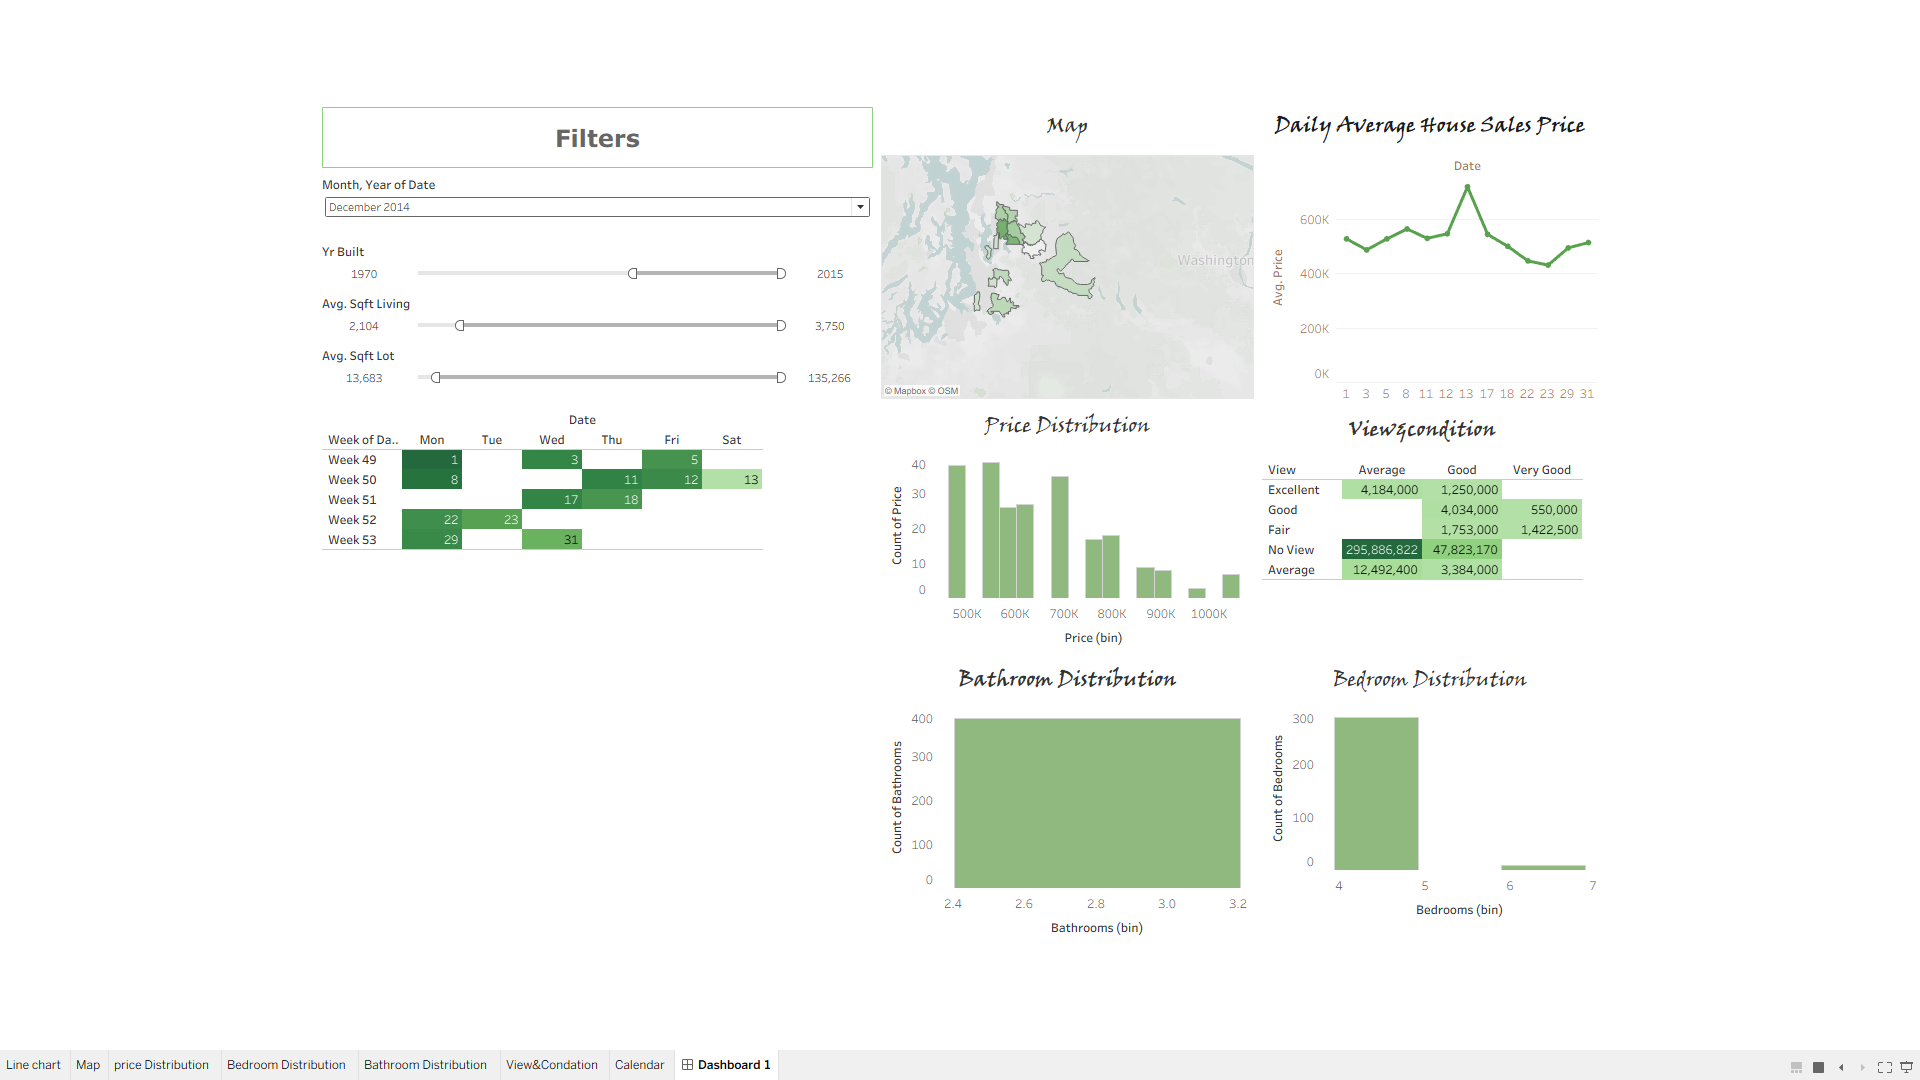

The page's visual inventory and layout, read from the dashboard file:
{"tool":"tableau","page":{"name":"Dashboard 1","canvas":[1000,1000],"units":"permille","ordinal":0},"visuals":[{"type":"text","box":[6.2,9.3,430,80.2]},{"type":"worksheet","title":"Map","mark":"Automatic","box":[436.2,9.3,293.5,348.8]},{"type":"worksheet","title":"Line chart","mark":"Line","rows":["price"],"cols":["date"],"box":[729.6,9.3,264.2,353.1]},{"type":"filter","title":"Calendar","param":"[federated.07s91ni09cb6ia1ak8ub21azffmt].[my:date:ok]","box":[6.2,89.5,430,77.9]},{"type":"filter","title":"Calendar","param":"[federated.07s91ni09cb6ia1ak8ub21azffmt].[none:yr_built:qk]","box":[6.2,167.4,430,60.5]},{"type":"filter","title":"Calendar","param":"[federated.07s91ni09cb6ia1ak8ub21azffmt].[avg:sqft_living:qk]","box":[6.2,227.9,430,60.5]},{"type":"filter","title":"Calendar","param":"[federated.07s91ni09cb6ia1ak8ub21azffmt].[avg:sqft_lot:qk]","box":[6.2,288.4,430,72.1]},{"type":"worksheet","title":"price Distribution","mark":"Automatic","rows":["price"],"cols":["Price (bin)"],"box":[436.2,358.1,293.5,295.4]},{"type":"worksheet","title":"Calendar","mark":"Square","rows":["date"],"cols":["date"],"box":[6.2,360.5,430,630.2]},{"type":"worksheet","title":"View&Condation","mark":"Square","rows":["view"],"cols":["condition"],"box":[729.6,362.4,264.2,291.1]},{"type":"worksheet","title":"Bathroom Distribution","mark":"Automatic","rows":["bathrooms"],"cols":["Bathrooms (bin)"],"box":[436.2,653.5,293.5,337.2]},{"type":"worksheet","title":"Bedroom Distribution","mark":"Automatic","rows":["bedrooms"],"cols":["Bedrooms (bin)"],"box":[729.6,653.5,264.2,316.3]}]}

Visuals, with their boxes on the dashboard's canvas, which has no fixed pixel size, in thousandths of its width and height (x1, y1, x2, y2). These are canvas units, not pixel positions in the 1920x1080 screenshot, which may show the page scaled, cropped or inside an application window:
text: BBox(6, 9, 436, 90)
"Map" worksheet: BBox(436, 9, 730, 358)
"Line chart" worksheet (Line marks): BBox(730, 9, 994, 362)
"Calendar" filter: BBox(6, 90, 436, 167)
"Calendar" filter: BBox(6, 167, 436, 228)
"Calendar" filter: BBox(6, 228, 436, 288)
"Calendar" filter: BBox(6, 288, 436, 360)
"price Distribution" worksheet: BBox(436, 358, 730, 654)
"Calendar" worksheet (Square marks): BBox(6, 360, 436, 991)
"View&Condation" worksheet (Square marks): BBox(730, 362, 994, 654)
"Bathroom Distribution" worksheet: BBox(436, 654, 730, 991)
"Bedroom Distribution" worksheet: BBox(730, 654, 994, 970)
